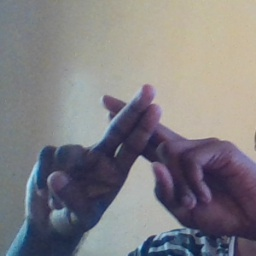F: (59, 77, 221, 213)
